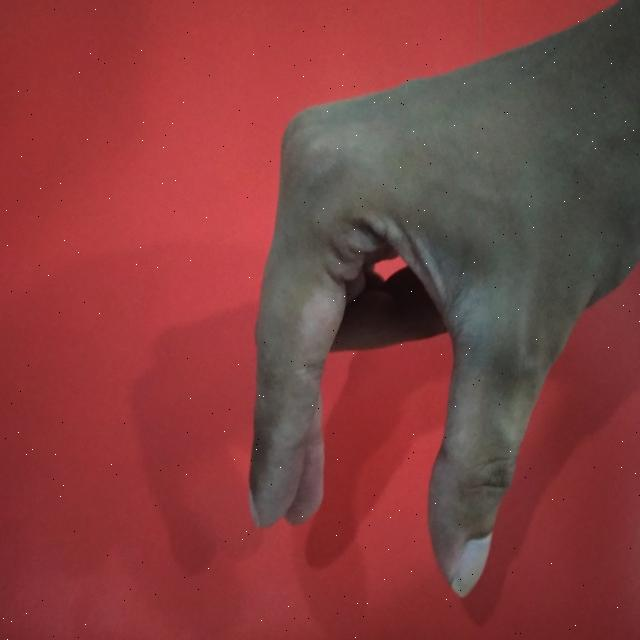Q: (238, 0, 640, 606)
